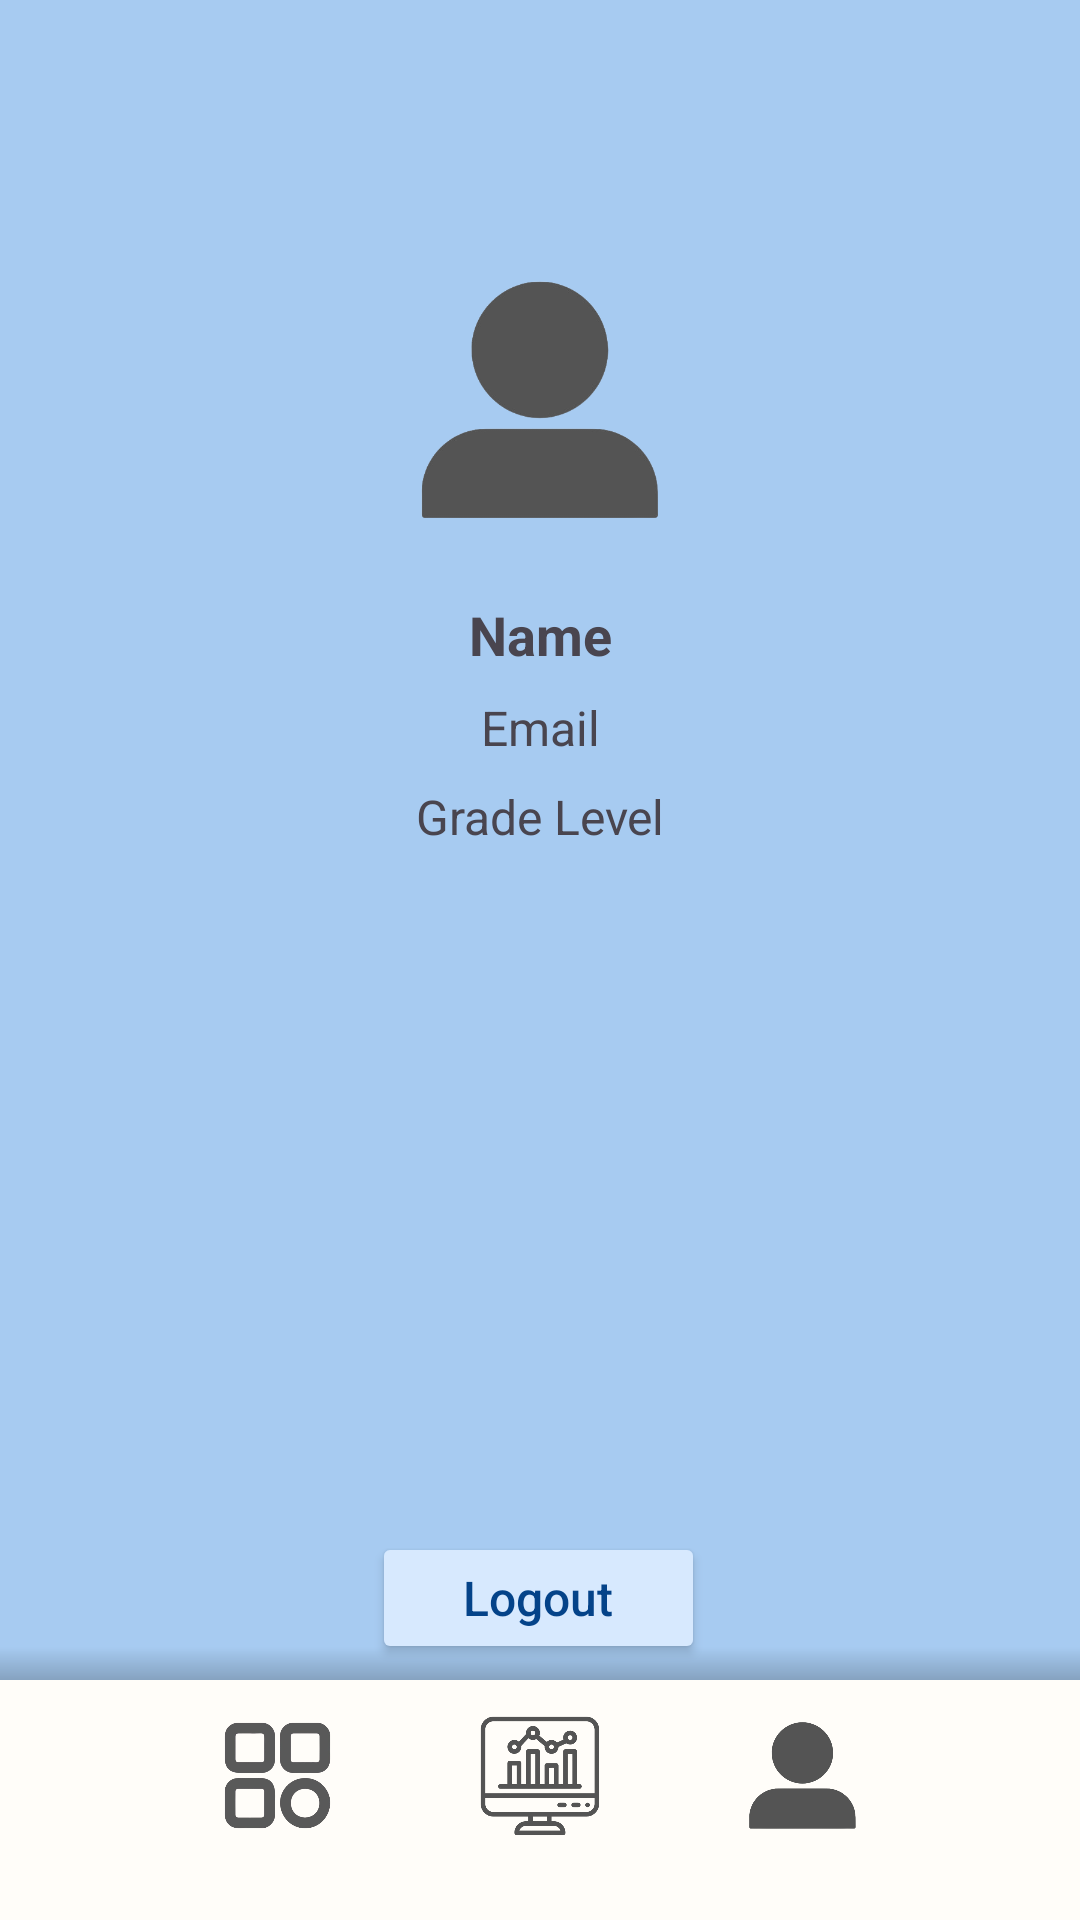

Named icons in this screenshot (1080 × 1920) and their bounding boxes, (x1, y1, x2, y2):
dashboard: (225, 1723, 330, 1828)
Profile Picture: (422, 282, 658, 518)
progress: (481, 1717, 599, 1835)
user: (749, 1722, 856, 1829)
